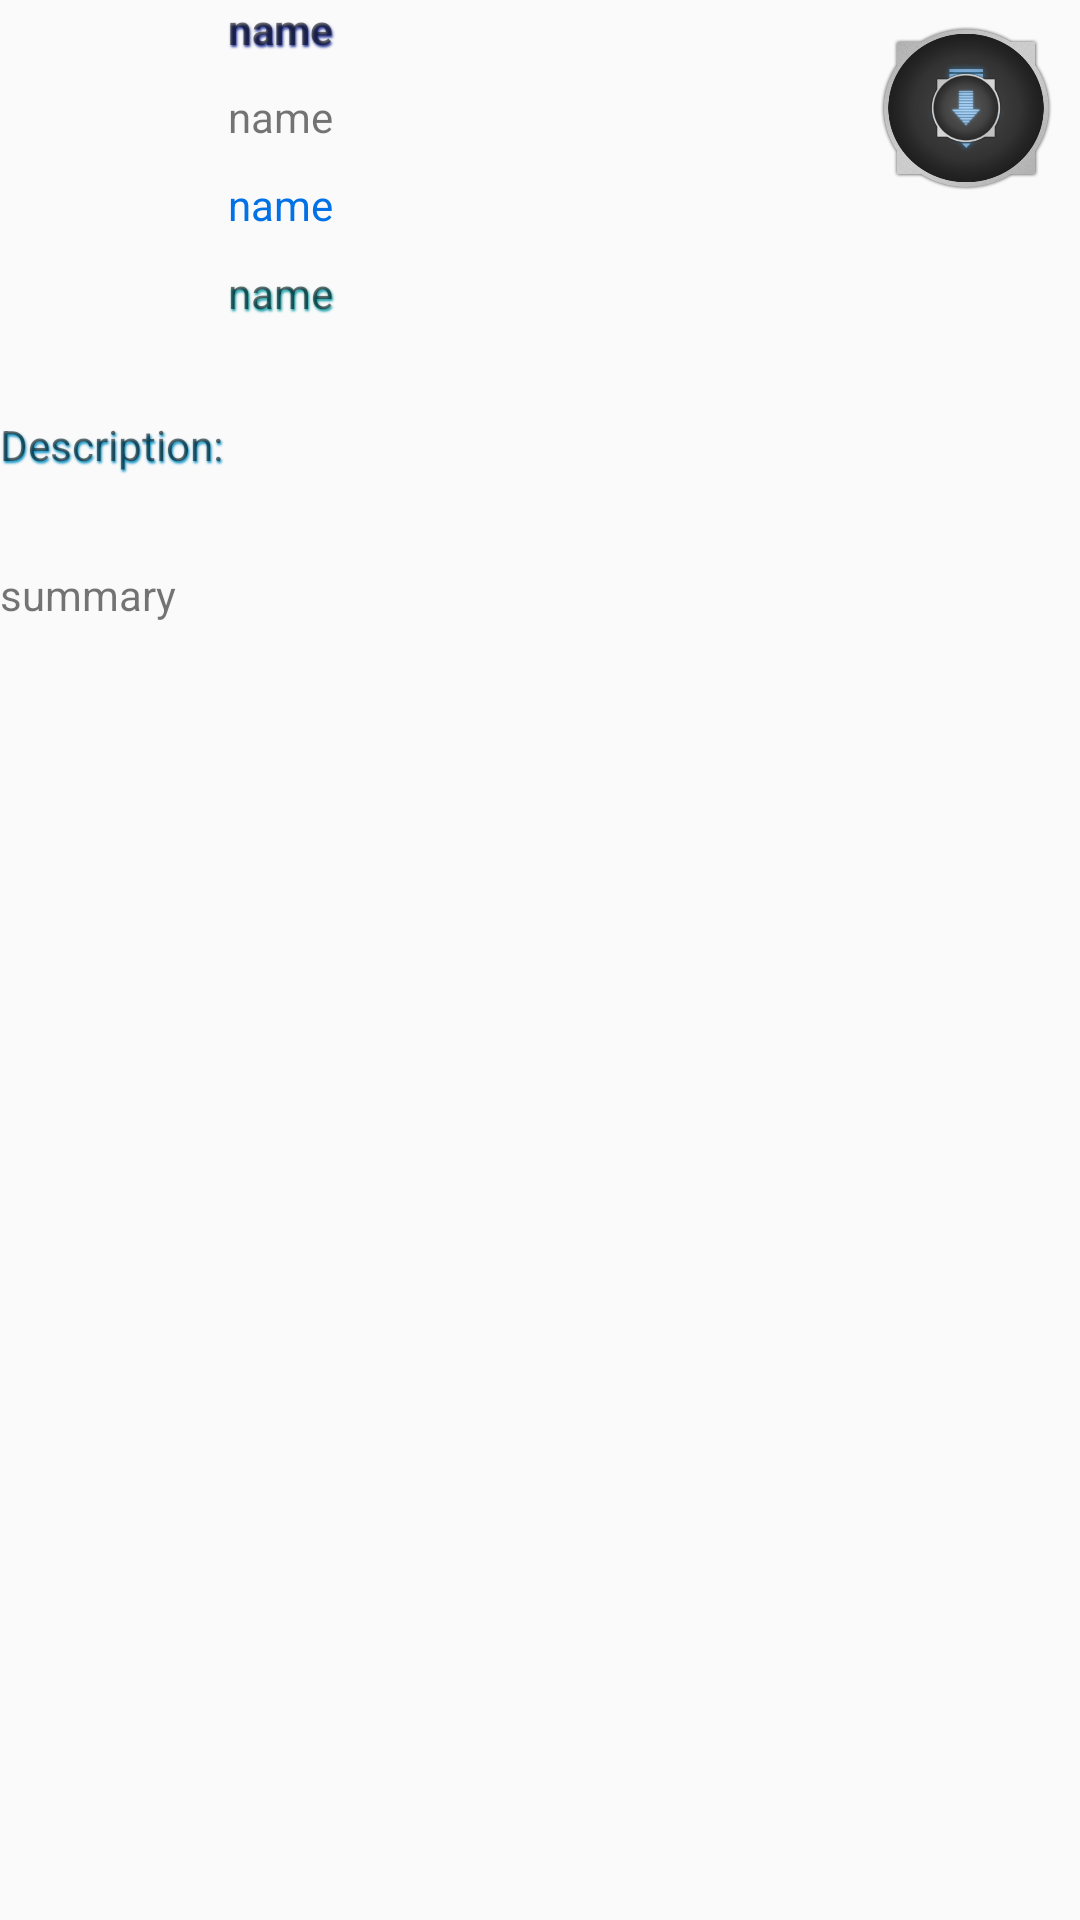

Icons on this 1080w x 1920h Android screen, each with the point to tap as (x=x, y=y):
downloads: (x=966, y=108)
